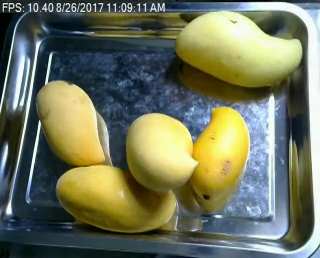Mango: (172, 9, 305, 87), (50, 163, 181, 235), (187, 104, 252, 209), (35, 78, 109, 163), (126, 110, 199, 191)
